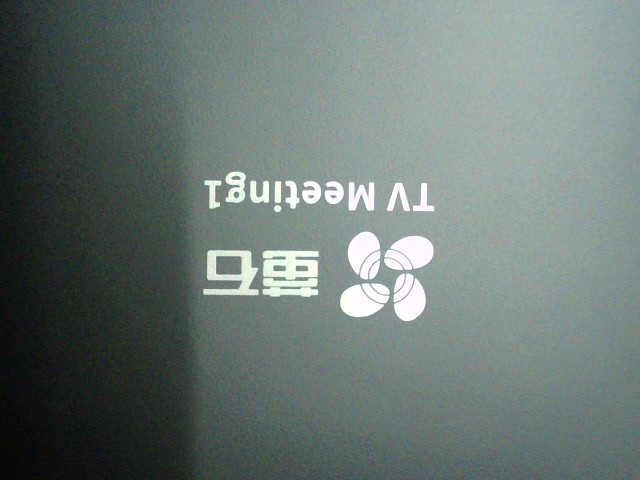BA_Yingshi: (201, 171, 443, 321)
